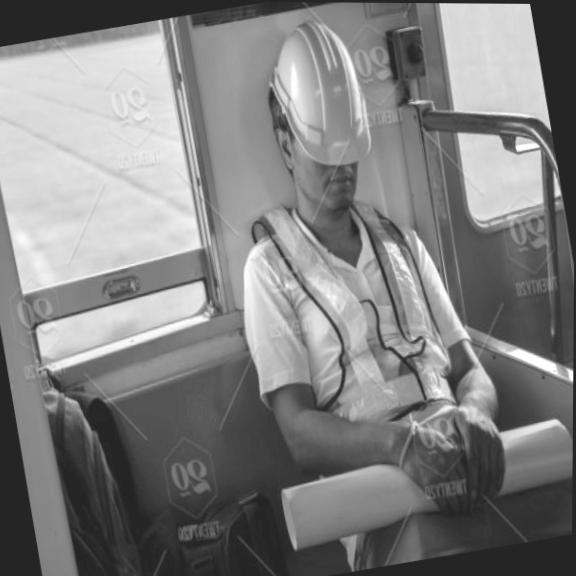safety_vest: (241, 178, 478, 480)
